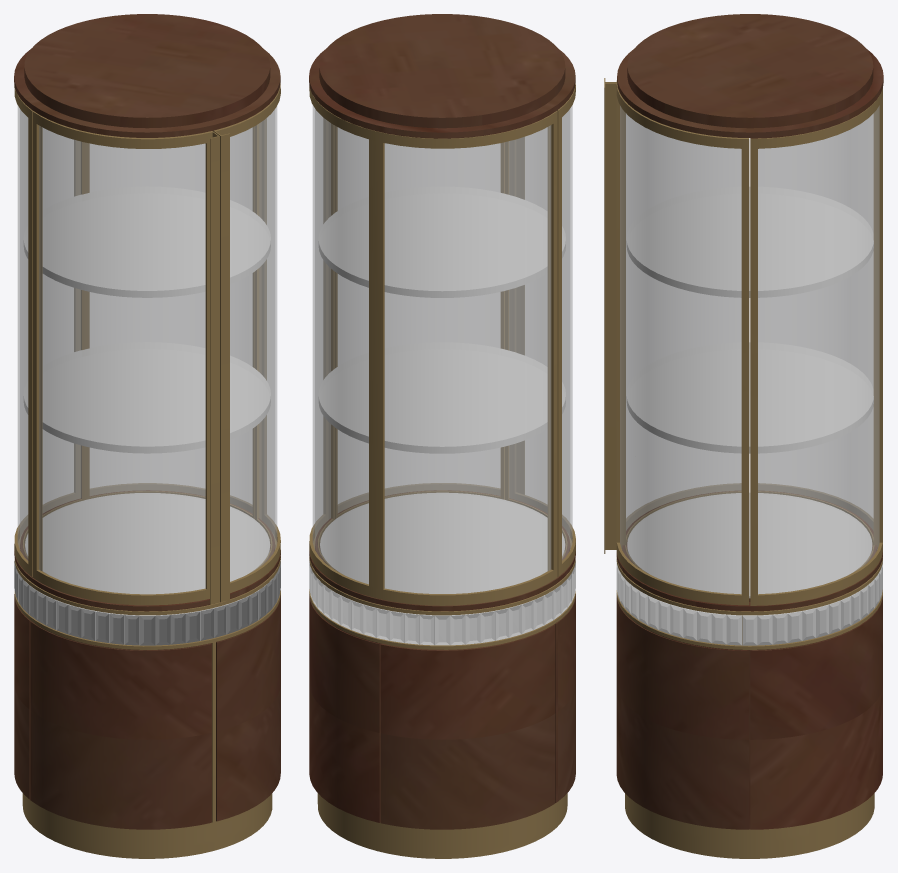
The model's file is display-vitrine.glb.
The picture shows the model from 3 angles, left to right: view 1: azimuth 30°, elevation 25°; view 2: azimuth 150°, elevation 25°; view 3: azimuth 270°, elevation 25°; orthographic projection.
Parts seen in each view (by area): view 1: Object_89, Object_8, Object_57, Object_95, Object_91, Object_87, Object_81, Object_83, Object_227, Object_4, Object_85, Object_6 (+7 smaller); view 2: Object_85, Object_8, Object_87, Object_10, Object_91, Object_81, Object_83, Object_227, Object_55, Object_93, Object_89, Object_95 (+6 smaller); view 3: Object_87, Object_91, Object_8, Object_57, Object_95, Object_89, Object_85, Object_83, Object_81, Object_227, Object_6, Object_10 (+4 smaller).
Boxes of the visible parts, left/top/right/bottom form: Object_89: left=39, top=125, right=205, bottom=594; Object_8: left=14, top=14, right=280, bottom=137; Object_57: left=30, top=684, right=280, bottom=829; Object_95: left=30, top=595, right=280, bottom=739; Object_91: left=230, top=106, right=277, bottom=581; Object_87: left=90, top=128, right=252, bottom=512; Object_81: left=23, top=186, right=270, bottom=297; Object_83: left=23, top=342, right=270, bottom=453; Object_227: left=25, top=493, right=270, bottom=594; Object_4: left=32, top=111, right=219, bottom=605; Object_85: left=17, top=106, right=80, bottom=560; Object_6: left=213, top=83, right=280, bottom=601; Object_85: left=384, top=125, right=551, bottom=593; Object_8: left=309, top=14, right=575, bottom=138; Object_87: left=312, top=105, right=368, bottom=584; Object_10: left=309, top=86, right=557, bottom=605; Object_91: left=338, top=128, right=500, bottom=512; Object_81: left=318, top=186, right=565, bottom=297; Object_83: left=318, top=342, right=565, bottom=453; Object_227: left=320, top=492, right=565, bottom=593; Object_55: left=380, top=714, right=555, bottom=829; Object_93: left=380, top=624, right=555, bottom=739; Object_89: left=509, top=105, right=572, bottom=560; Object_95: left=309, top=594, right=575, bottom=732; Object_87: left=758, top=105, right=879, bottom=594; Object_91: left=620, top=106, right=741, bottom=593; Object_8: left=617, top=14, right=883, bottom=138; Object_57: left=616, top=686, right=882, bottom=829; Object_95: left=616, top=596, right=882, bottom=739; Object_89: left=626, top=114, right=741, bottom=529; Object_85: left=758, top=114, right=873, bottom=529; Object_83: left=626, top=342, right=873, bottom=453; Object_81: left=626, top=186, right=873, bottom=297; Object_227: left=627, top=492, right=872, bottom=598; Object_6: left=604, top=83, right=749, bottom=605; Object_10: left=750, top=88, right=882, bottom=605.
Bounding box in the file's own units: 0.586 × 1.8 × 0.6141.
7 materials, 3 textured.
